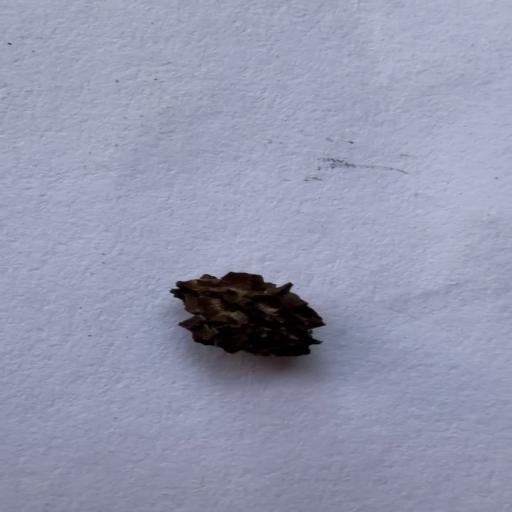papaya_seed: (165, 269, 330, 360)
